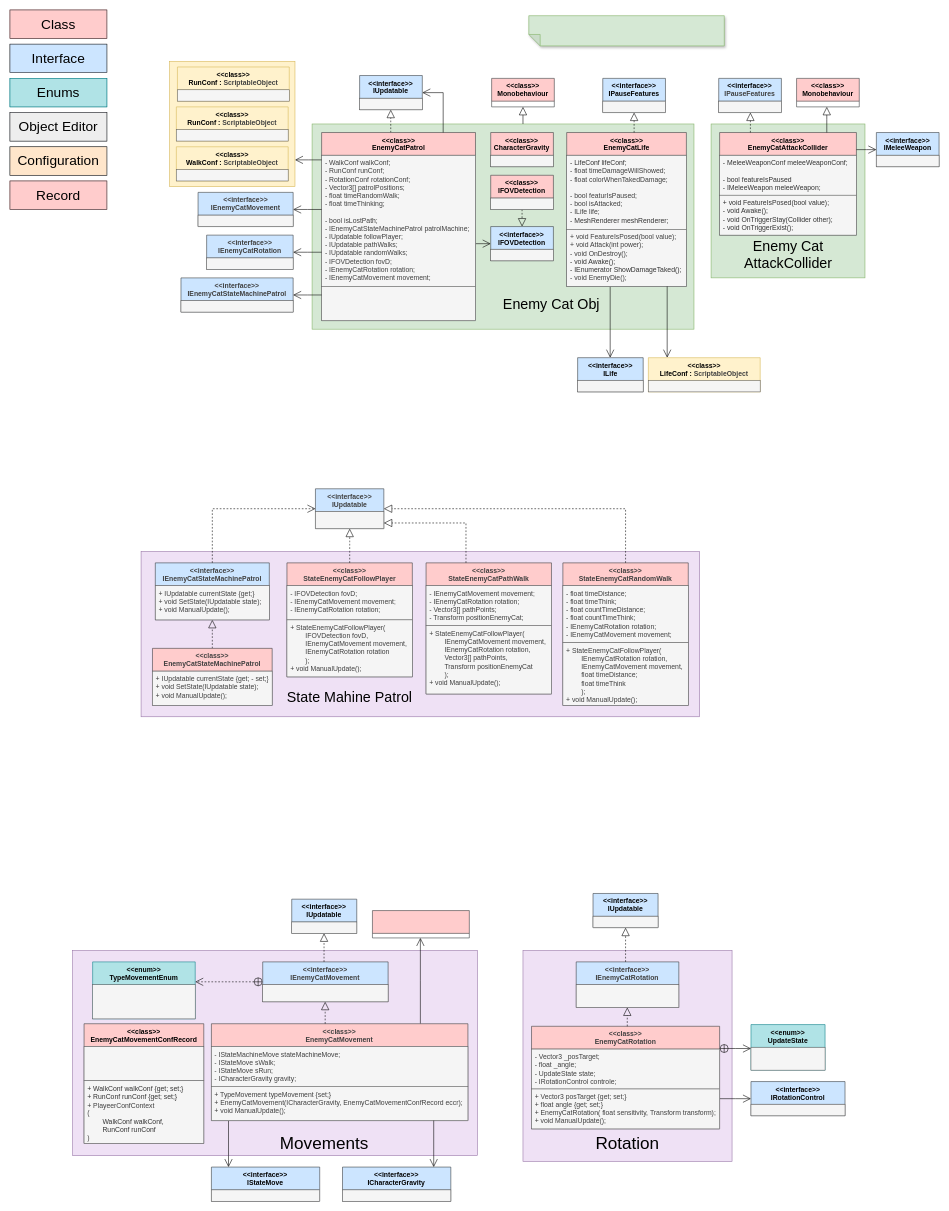
Image size: 949x1211. Some labels were removed from this diagram. The shapes that lost their labels are listed below. From the top down, each one's centre as x and y in pixels, then its label:
(627,31): EnemyCat Obj willUpdated from UpdateManager
(398,303): + void ManualUpdate (); - void Awake(); - void Start();
(420,924): <<class>> InputActionReference
(143,1001): RUN, WALK, WHAIT
(325,993): + TypeMovement typeMovement {set;}
(627,995): + Vector3 posTarget {get; set;} + flaot angle {get; set;}
(144,1063): - WalkConf _walkConf; - RunConf _runConf;
(787,1058): STATE_POSTAGET STATE_ANGLE
